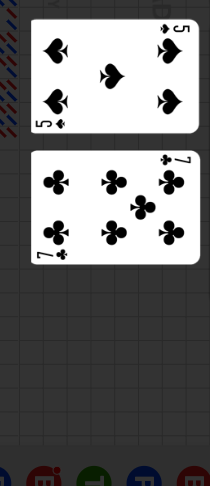5S: (158, 23, 191, 35)
7C: (35, 247, 70, 262)
